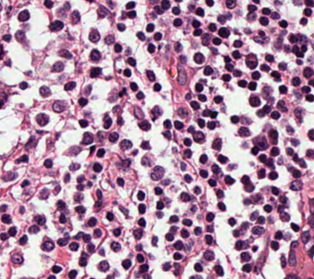nucleus: (246, 54, 257, 68), (177, 68, 186, 84), (36, 113, 48, 125), (53, 101, 65, 112), (256, 137, 267, 149), (41, 240, 53, 251), (89, 29, 99, 42), (151, 106, 161, 119), (268, 129, 277, 143), (193, 131, 204, 142), (90, 49, 100, 61), (82, 132, 92, 144), (120, 139, 132, 149), (90, 67, 101, 77), (39, 86, 50, 96), (249, 95, 259, 106), (238, 126, 249, 136), (203, 250, 214, 260), (59, 49, 71, 58), (25, 136, 34, 148), (103, 115, 111, 128), (219, 27, 229, 37), (194, 53, 204, 63), (108, 132, 118, 142), (15, 30, 24, 41), (52, 62, 63, 71), (64, 81, 75, 90), (277, 100, 286, 111), (134, 107, 143, 118), (139, 121, 150, 130), (212, 138, 221, 149), (11, 254, 22, 263), (252, 226, 264, 234), (177, 108, 187, 117), (154, 166, 163, 176), (133, 229, 142, 239), (34, 216, 45, 224), (202, 33, 209, 45), (4, 173, 16, 180), (105, 35, 114, 44), (211, 164, 220, 173), (244, 182, 253, 191), (39, 189, 48, 198), (180, 192, 189, 201), (56, 200, 65, 209), (1, 214, 10, 223), (87, 217, 96, 226), (111, 242, 120, 251), (241, 252, 250, 261), (146, 70, 154, 80), (271, 71, 279, 81), (150, 172, 160, 180), (224, 176, 234, 184), (252, 194, 262, 202), (29, 225, 39, 233), (57, 237, 67, 245), (16, 155, 27, 162), (136, 32, 145, 40), (127, 57, 135, 66), (204, 66, 212, 75), (78, 97, 87, 105), (190, 101, 199, 109), (163, 119, 171, 128), (141, 141, 150, 149), (270, 147, 279, 155), (218, 155, 227, 163), (93, 163, 101, 172), (268, 171, 277, 179), (8, 227, 16, 236), (93, 228, 101, 237), (19, 235, 27, 244), (69, 242, 78, 250), (69, 163, 79, 170), (75, 206, 85, 213), (232, 50, 240, 58), (225, 63, 233, 71), (19, 81, 27, 89), (248, 82, 256, 90), (262, 105, 270, 113), (79, 119, 87, 127), (174, 121, 182, 129), (207, 121, 215, 129), (44, 159, 52, 167), (122, 159, 130, 167), (265, 159, 273, 167), (241, 175, 249, 183), (74, 193, 82, 201), (82, 234, 90, 242), (174, 241, 182, 249), (136, 254, 144, 262), (260, 64, 269, 71), (84, 85, 91, 94), (199, 154, 206, 163), (258, 169, 265, 178), (138, 204, 145, 213), (250, 211, 257, 220), (206, 212, 213, 221), (169, 215, 178, 222), (205, 235, 212, 244), (271, 241, 278, 250), (87, 243, 94, 252), (154, 32, 161, 40), (2, 34, 10, 41), (233, 40, 241, 47), (114, 44, 121, 52), (265, 54, 273, 61), (252, 71, 259, 79), (222, 74, 230, 81), (238, 80, 246, 87), (130, 82, 137, 90), (153, 83, 160, 91), (195, 83, 202, 91), (198, 94, 206, 101), (271, 111, 279, 118), (231, 115, 238, 123), (197, 119, 204, 127), (251, 146, 258, 154), (184, 149, 191, 157), (259, 154, 266, 162), (208, 179, 216, 186), (21, 180, 29, 187), (193, 186, 200, 194), (154, 187, 162, 194), (137, 191, 144, 199), (156, 201, 163, 209), (218, 202, 225, 210), (120, 207, 127, 215), (106, 212, 113, 220), (59, 214, 66, 222), (138, 218, 145, 226), (113, 228, 120, 236), (181, 229, 188, 237), (275, 231, 282, 239), (0, 232, 7, 240), (74, 232, 82, 239), (165, 233, 173, 240), (235, 241, 242, 249), (173, 252, 181, 259), (275, 38, 281, 47), (175, 42, 181, 51), (182, 219, 191, 225), (123, 69, 130, 76), (136, 92, 143, 99), (163, 131, 170, 138), (183, 138, 190, 145), (97, 149, 104, 156), (200, 170, 207, 177), (77, 175, 84, 182), (184, 175, 191, 182), (76, 183, 83, 190), (271, 187, 278, 194), (216, 190, 223, 197), (264, 205, 271, 212), (257, 216, 264, 223), (228, 218, 235, 225), (194, 227, 201, 234), (193, 29, 201, 35), (148, 44, 154, 52), (233, 70, 241, 76), (119, 88, 125, 96), (214, 96, 222, 102), (202, 110, 210, 116), (256, 110, 264, 116), (117, 177, 123, 185), (117, 116, 122, 125), (64, 173, 69, 182), (152, 236, 157, 245), (213, 38, 220, 44), (210, 111, 217, 117), (54, 186, 60, 193), (156, 210, 162, 217), (241, 222, 248, 228), (96, 190, 101, 198), (95, 199, 100, 207), (179, 56, 185, 62), (224, 56, 230, 62), (188, 126, 194, 132), (244, 198, 250, 204), (170, 226, 176, 232), (99, 248, 104, 255), (181, 162, 185, 170), (258, 31, 264, 36), (185, 93, 190, 99), (278, 206, 283, 212), (207, 225, 212, 231), (233, 230, 238, 236), (136, 244, 141, 250), (90, 146, 94, 153), (20, 206, 24, 213), (1, 205, 6, 210), (191, 206, 196, 211), (252, 246, 257, 251), (81, 252, 86, 257), (278, 158, 282, 163), (212, 48, 216, 52), (6, 61, 10, 65), (163, 180, 168, 183), (133, 150, 136, 154), (88, 182, 91, 186), (65, 233, 68, 237)
